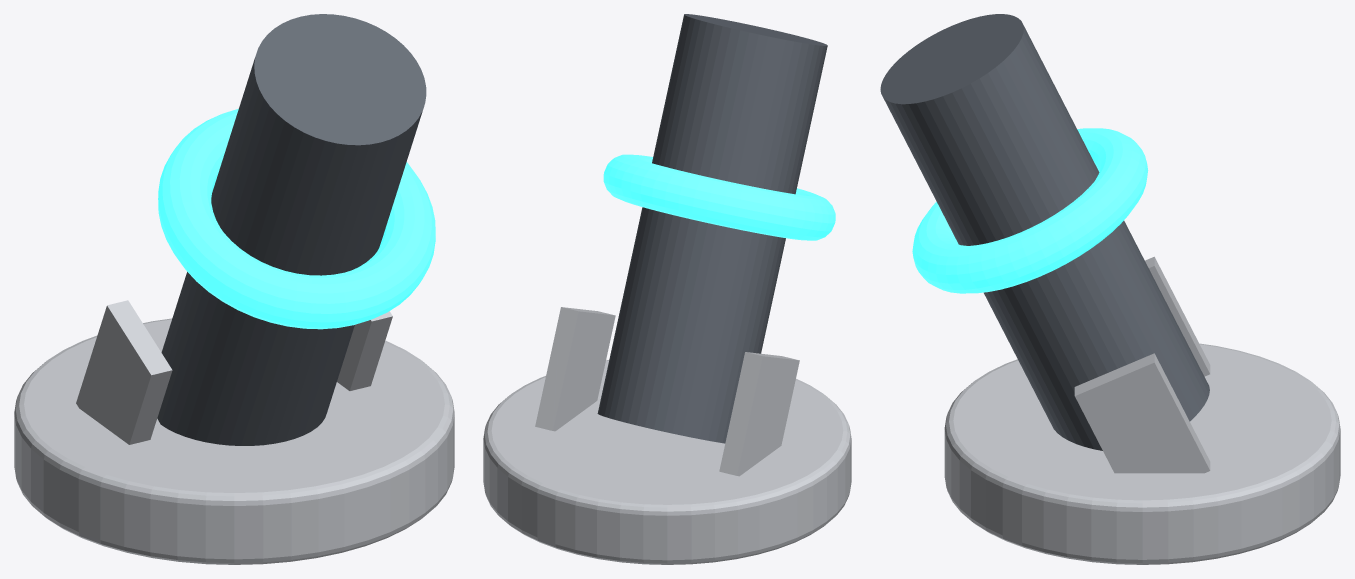
File: launcher.glb
3 views of the same model, side by side, from view 1: azimuth 30°, elevation 25°; view 2: azimuth 150°, elevation 25°; view 3: azimuth 270°, elevation 25° (orthographic). The views are drawn at different scales.
Parts seen in each view (by area): view 1: Base, Barrel, EnergyRing, Base_Support.001; view 2: Barrel, Base, EnergyRing, Base_Support.001; view 3: Base, Barrel, EnergyRing, Base_Support.001.
Boxes of the visible parts, x1=… form: Base: x1=14, y1=300, x2=454, y2=564; Barrel: x1=157, y1=14, x2=426, y2=445; EnergyRing: x1=158, y1=108, x2=435, y2=329; Base_Support.001: x1=337, y1=311, x2=392, y2=390; Barrel: x1=597, y1=14, x2=827, y2=443; Base: x1=483, y1=352, x2=851, y2=564; EnergyRing: x1=603, y1=154, x2=835, y2=240; Base_Support.001: x1=535, y1=307, x2=615, y2=431; Base: x1=944, y1=256, x2=1340, y2=564; Barrel: x1=880, y1=14, x2=1209, y2=450; EnergyRing: x1=912, y1=128, x2=1148, y2=293; Base_Support.001: x1=1074, y1=353, x2=1210, y2=473.
Size of the model in its own units: 0.9 by 1.14 by 1.05.
